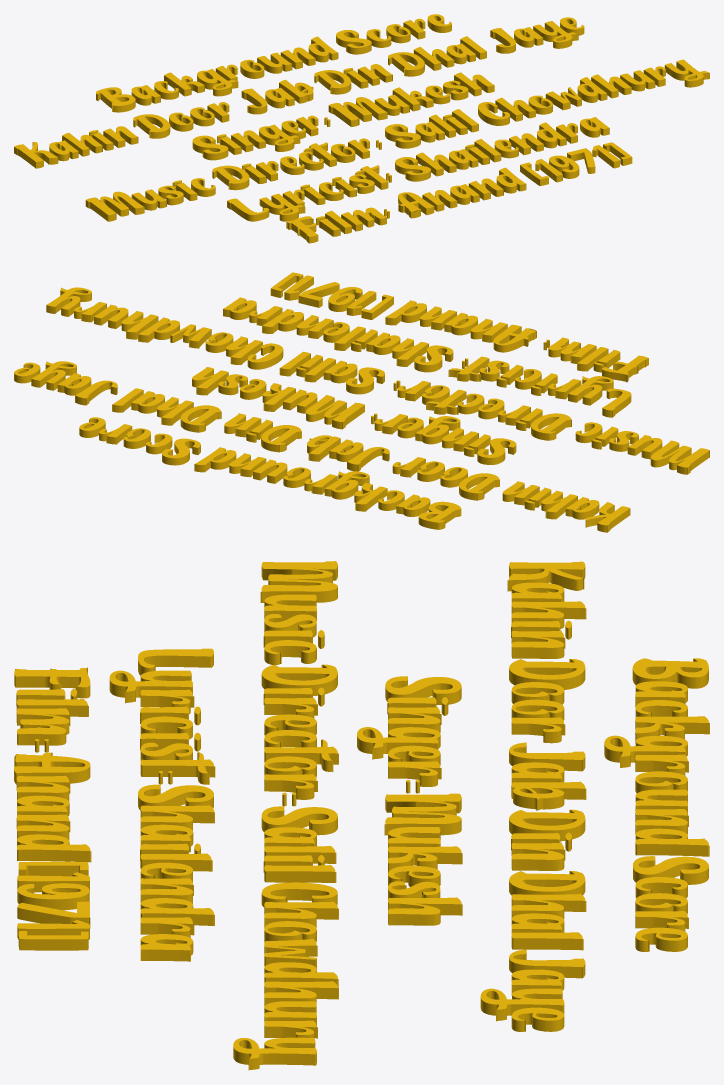
File: backgroundScore.gltf
3 views of the same model, one above another, from view 1: azimuth 30°, elevation 25°; view 2: azimuth 150°, elevation 25°; view 3: azimuth 270°, elevation 25° (orthographic). The views are drawn at different scales.
Visible parts, largest first — view 1: Text; view 2: Text; view 3: Text.
Boxes of the visible parts, x1,y1,x2,y2 form: Text: [14, 14, 709, 243]; Text: [14, 272, 709, 532]; Text: [14, 561, 709, 1070].
Bounding box in the file's own units: 9.54 × 0.1 × 5.63.
